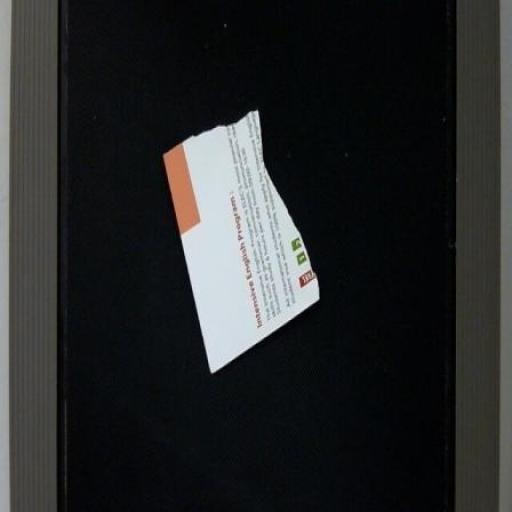paper: (141, 89, 350, 406)
